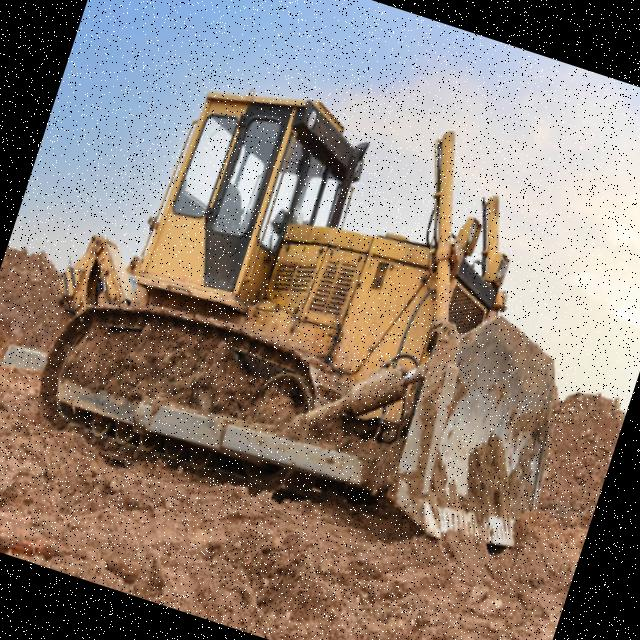Bulldozer: (14, 36, 636, 592)
